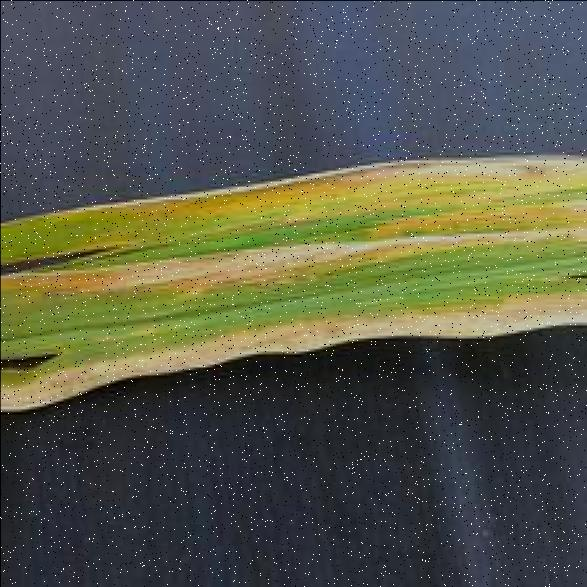Bacteria_Leaf_Blight: (8, 192, 572, 328)
